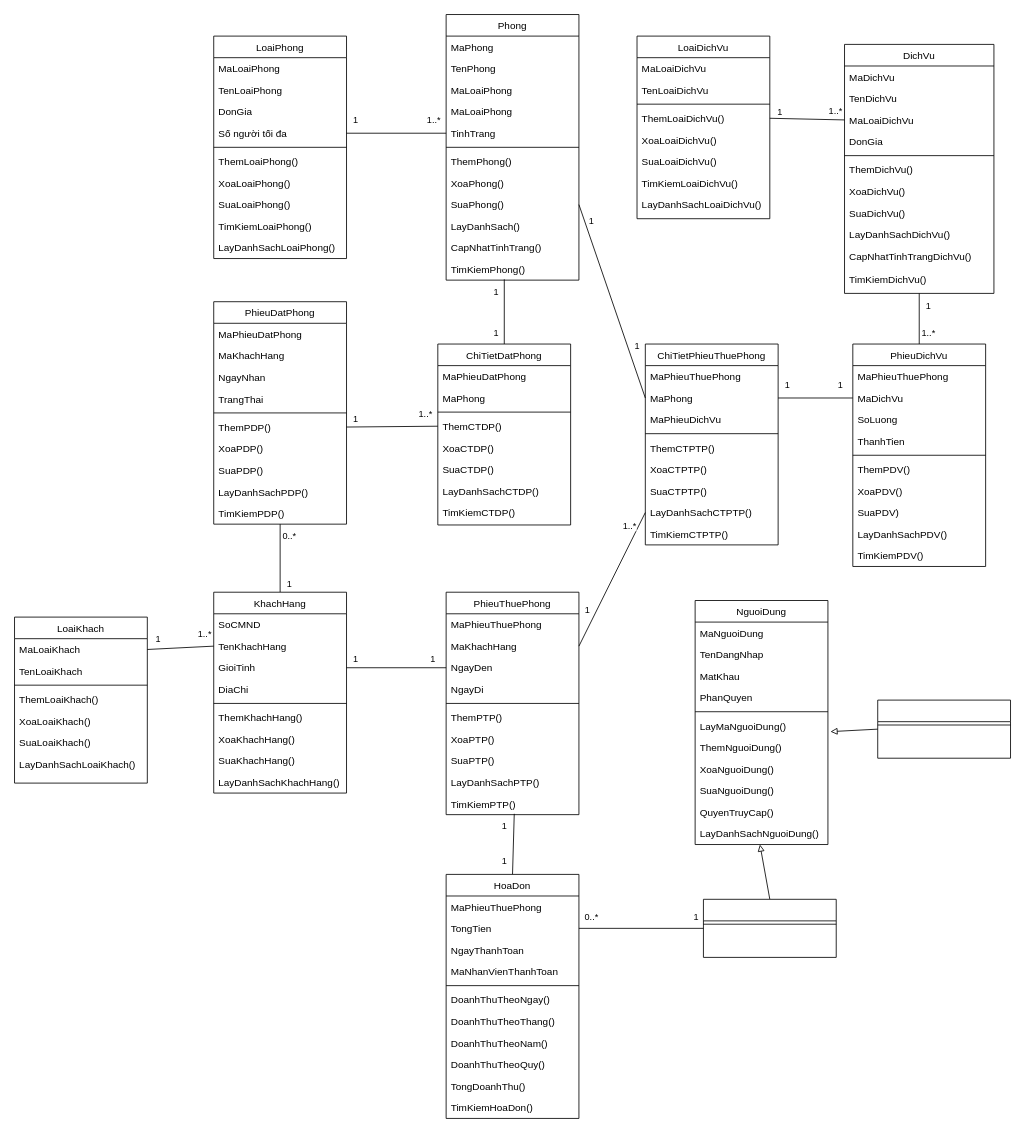
The diagram is 1025 pixels wide and 1135 high, and some of its shapes have lost their labels. The shapes that lost their labels are listed below. From the top down, each one's centre as x and y in pixels, then its label:
At pixel 944 728: "QuanLy".
At pixel 769 927: "LeTan".
